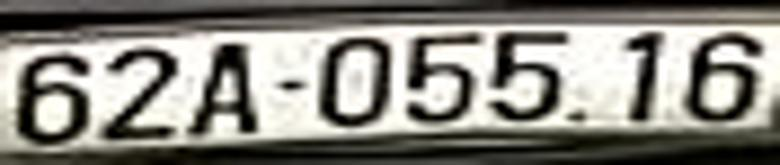-: (272, 77, 304, 93)
.: (566, 107, 588, 124)
0: (321, 38, 393, 124)
1: (625, 28, 661, 123)
2: (104, 47, 173, 138)
5: (494, 32, 563, 119), (407, 35, 474, 122)
6: (686, 31, 762, 123), (18, 51, 88, 147)
A: (186, 39, 260, 138)
